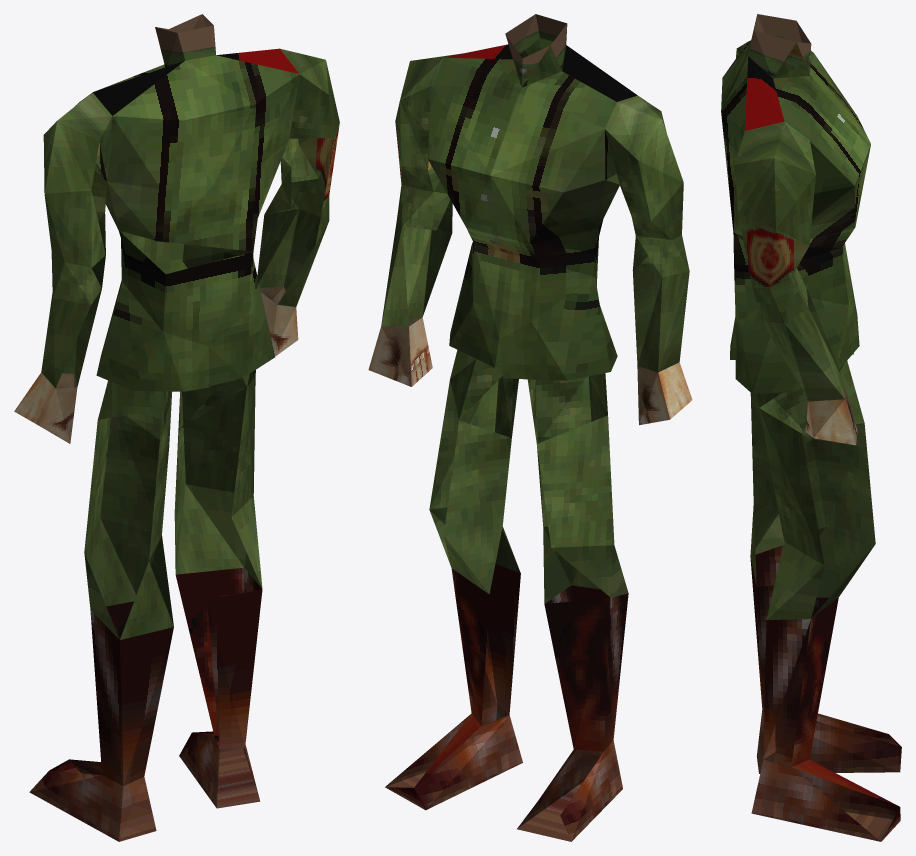
Rendered from primary_129.glb.
3 views of the same model, side by side, from view 1: azimuth 30°, elevation 25°; view 2: azimuth 150°, elevation 25°; view 3: azimuth 270°, elevation 25° (orthographic). The views are drawn at different scales.
Parts seen in each view (by area): view 1: Object; view 2: Object; view 3: Object.
Part boxes in pixels (x1,y1,x2,y2): Object: (14,14,339,841); Object: (368,14,692,841); Object: (721,14,901,841).
Bounding box in the file's own units: 0.7427 × 1.83 × 0.3882.
64 materials, 64 textured.
